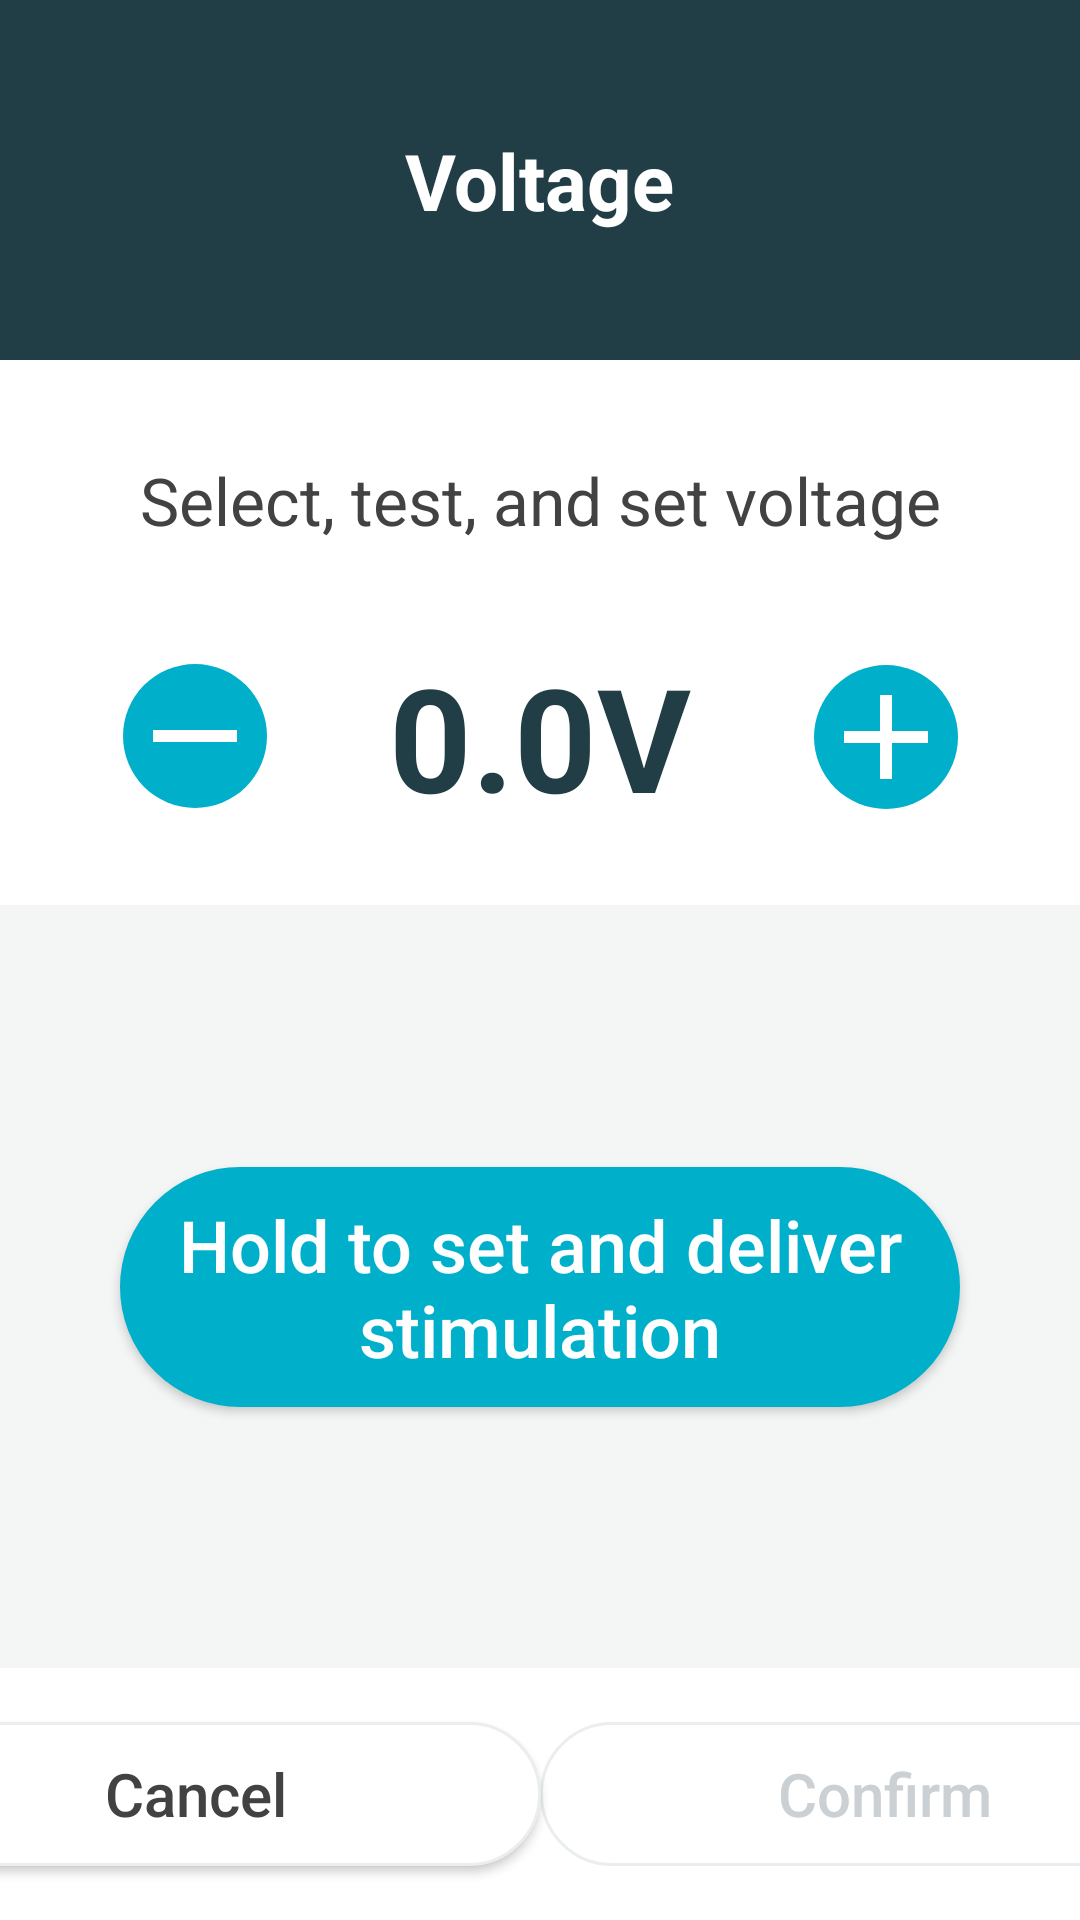

Where to tap for icons on this 1080 × 1920 app screen, as point (x, y):
minus: point (195, 736)
plus: point (886, 737)
